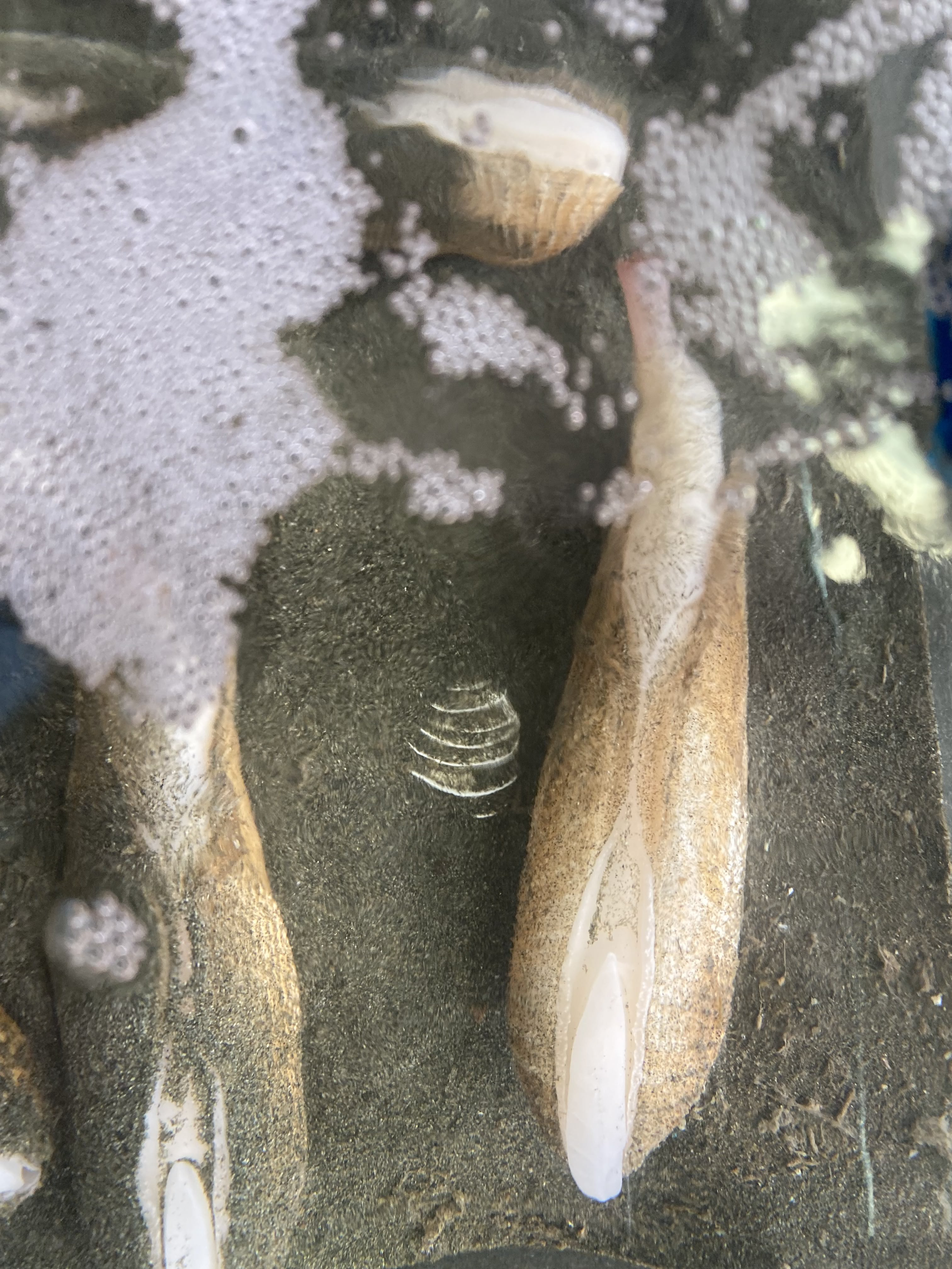Healthy: (509, 256, 753, 1201), (47, 663, 307, 1269)
